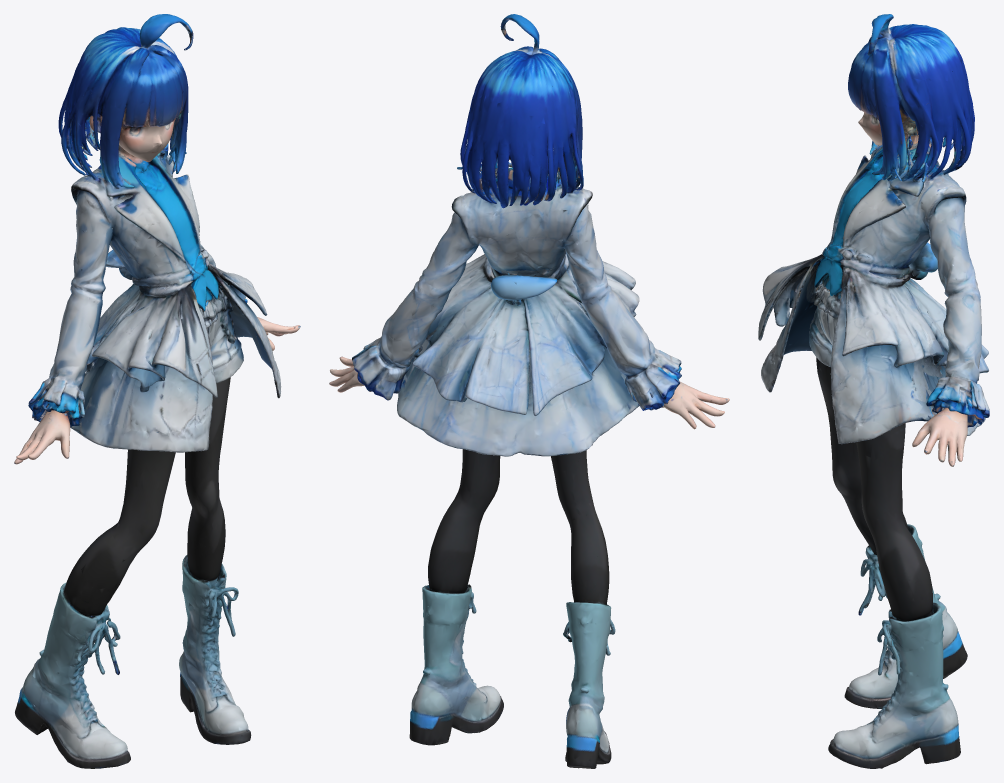
File: Blue.glb
3 renders of one model, left to right at view 1: azimuth 30°, elevation 25°; view 2: azimuth 150°, elevation 25°; view 3: azimuth 270°, elevation 25°, orthographic.
Size of the model in its own units: 0.9688 by 2 by 0.5845.
1 material, 1 textured.
